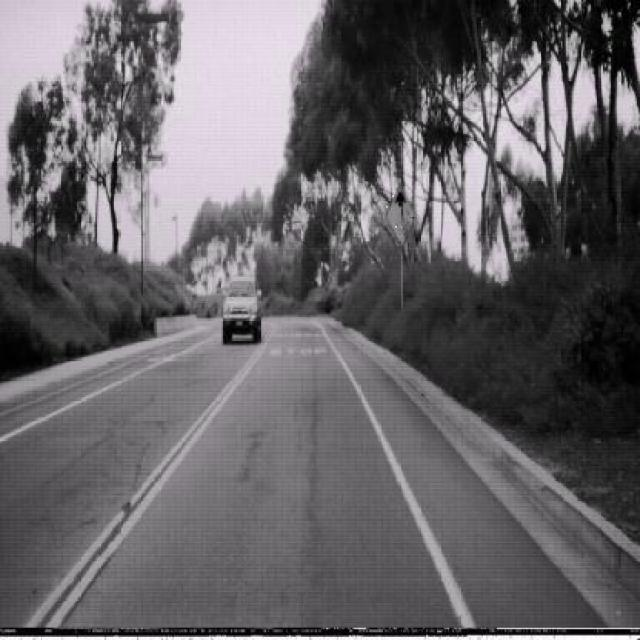stopAhead: (384, 183, 416, 247)
